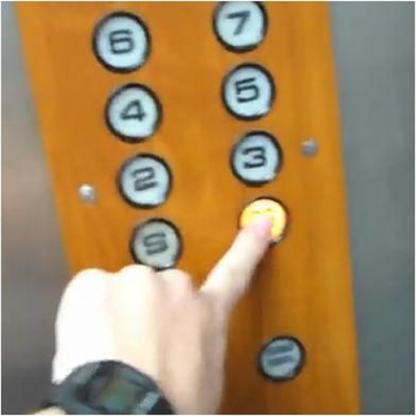2: (114, 150, 172, 210)
3: (226, 128, 284, 188)
4: (100, 80, 164, 143)
5: (218, 60, 276, 121)
6: (89, 8, 150, 74)
7: (208, 0, 268, 54)
S: (125, 214, 185, 271)
text_blur: (257, 334, 306, 383)
